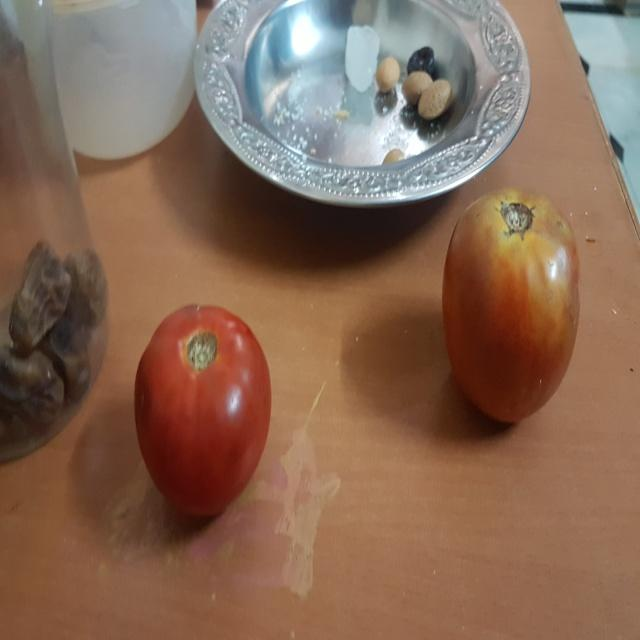tomato: (426, 180, 592, 438), (123, 301, 293, 530)
